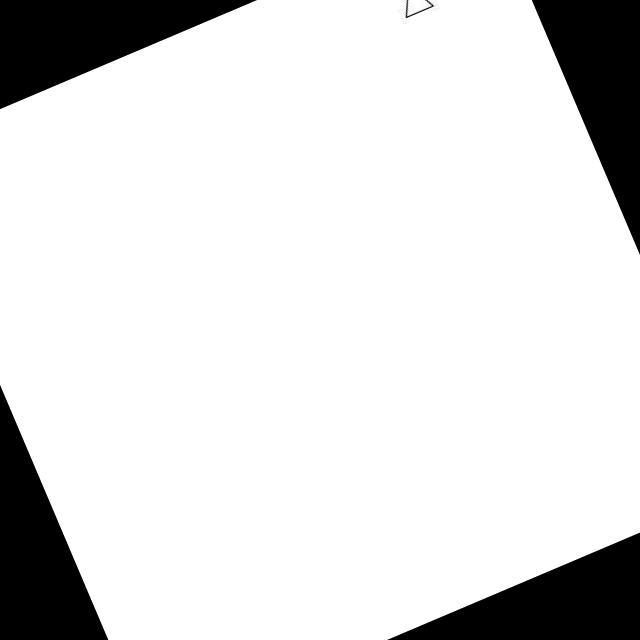GV: (378, 0, 438, 23)
